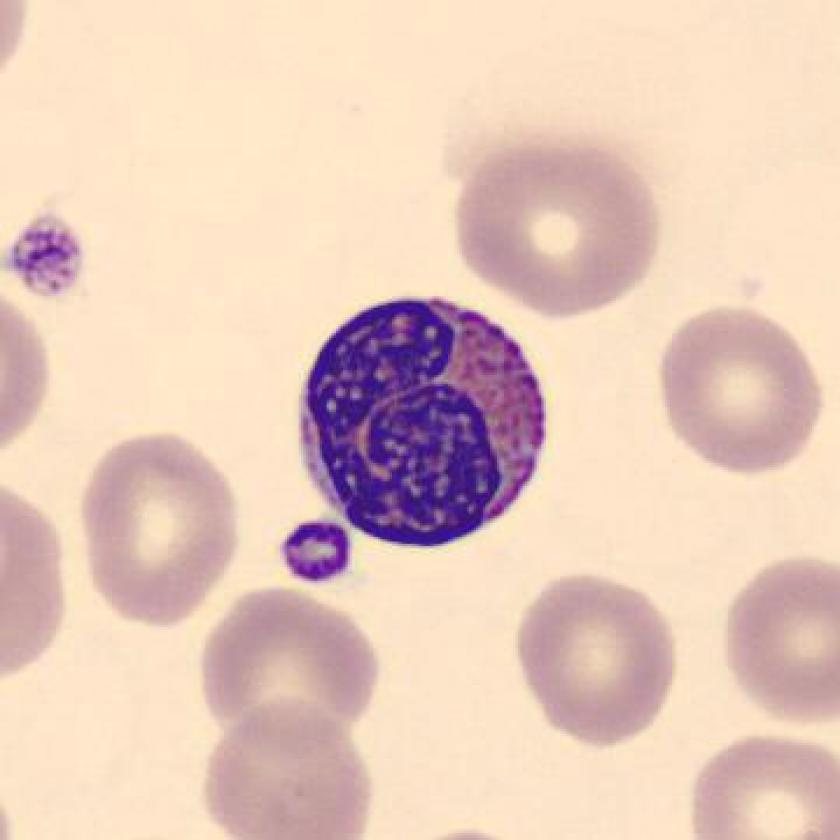eosinophil: (281, 286, 566, 563)
